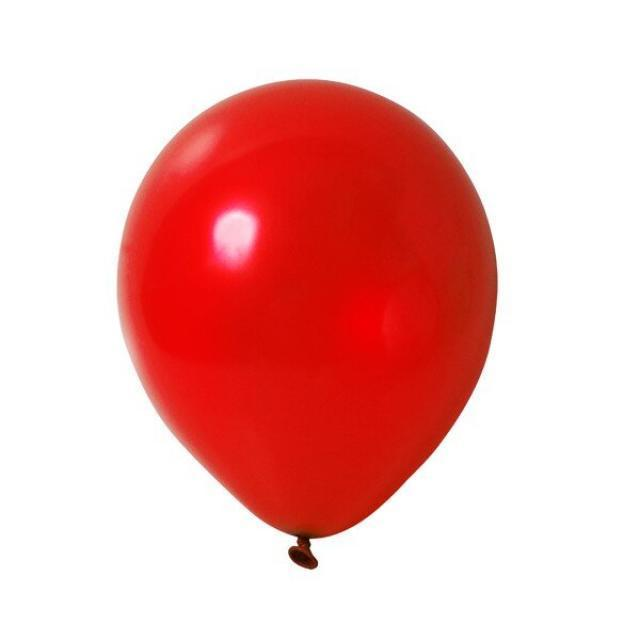balloon: (122, 82, 500, 564)
